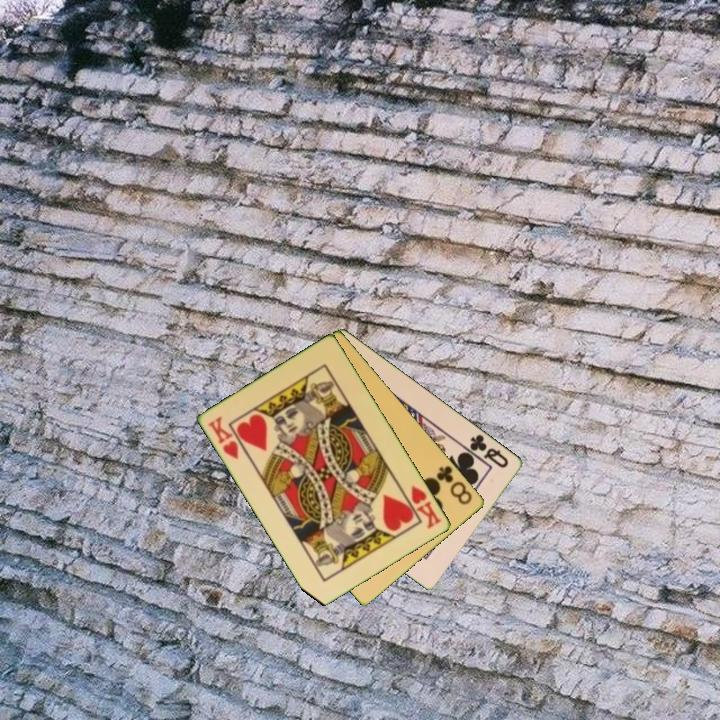8c: (433, 462, 476, 508)
Kh: (399, 482, 444, 532), (205, 412, 242, 463)
Qc: (461, 430, 512, 471)
